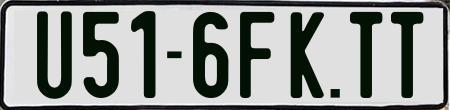1: (130, 11, 160, 100)
5: (82, 12, 122, 100)
6: (193, 10, 233, 102)
F: (238, 9, 275, 99)
K: (288, 10, 326, 96)
T: (388, 12, 424, 103), (347, 9, 379, 101)
U: (37, 8, 76, 98)
